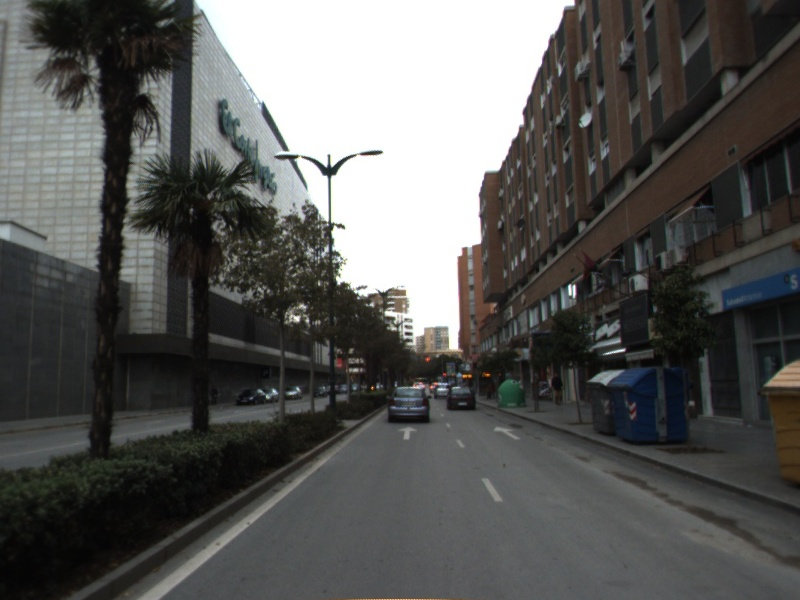STRAIGHT: (491, 424, 523, 441), (395, 425, 420, 442)
